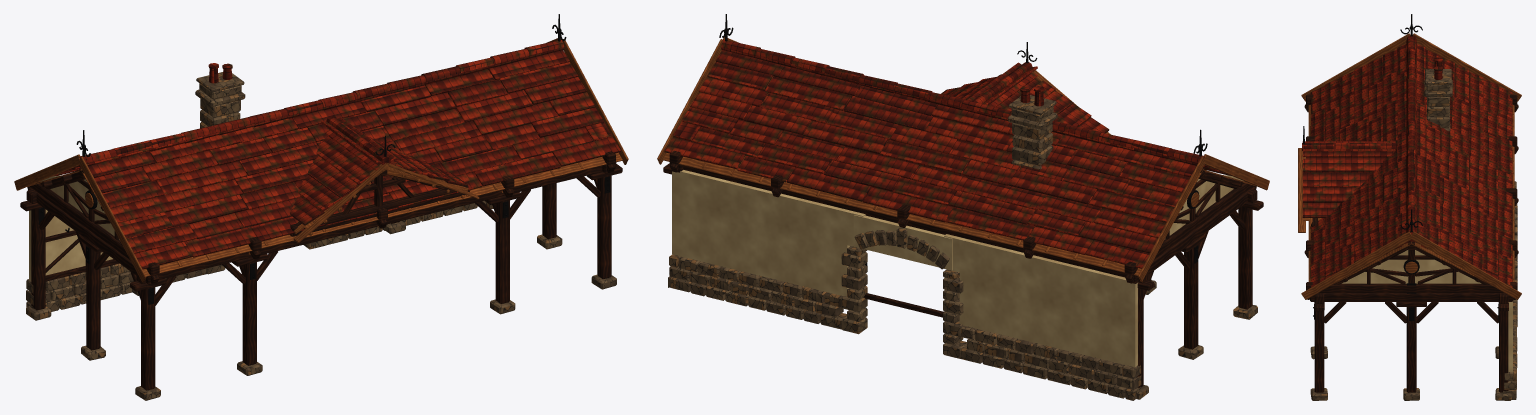
The model's file is forge_shelter.glb.
The picture shows the model from 3 angles, left to right: view 1: azimuth 30°, elevation 25°; view 2: azimuth 150°, elevation 25°; view 3: azimuth 270°, elevation 25°; orthographic projection. The views are drawn at different scales.
Parts seen in each view (by area): view 1: Shell_Roof_Tiles, Shell_Posts, Shell_FrontGable, Shell_Plates_Ties, Shell_Ridge_Finials, Shell_RearWall_Stone, Shell_GableEnds, Shell_RearWall_Frame, Shell_Chimney, Shell_Braces_Joinery, Shell_Trusses, Shell_Ironwork; view 2: Shell_Roof_Tiles, Shell_RearWall_Frame, Shell_RearWall_Stone, Shell_Plates_Ties, Shell_Ridge_Finials, Shell_Posts, Shell_FrontGable, Shell_GableEnds, Shell_Chimney, Shell_Trusses; view 3: Shell_Roof_Tiles, Shell_GableEnds, Shell_FrontGable, Shell_Plates_Ties, Shell_Posts, Shell_Ridge_Finials, Shell_Chimney, Shell_Trusses, Shell_RearWall_Stone, Shell_Braces_Joinery, Shell_RearWall_Frame, Shell_Rafters_Purlins.
Part boxes in pixels (<box>): Shell_Roof_Tiles: <box>28,47,622,276</box>; Shell_Posts: <box>20,164,622,400</box>; Shell_FrontGable: <box>289,116,479,242</box>; Shell_Plates_Ties: <box>26,151,616,284</box>; Shell_Ridge_Finials: <box>76,14,566,167</box>; Shell_RearWall_Stone: <box>26,200,486,311</box>; Shell_GableEnds: <box>14,38,628,282</box>; Shell_RearWall_Frame: <box>29,209,119,281</box>; Shell_Chimney: <box>195,63,245,128</box>; Shell_Braces_Joinery: <box>39,176,600,305</box>; Shell_Trusses: <box>27,163,615,284</box>; Shell_Ironwork: <box>38,176,610,304</box>; Shell_Roof_Tiles: <box>663,47,1255,275</box>; Shell_RearWall_Frame: <box>672,170,1137,367</box>; Shell_RearWall_Stone: <box>668,227,1141,400</box>; Shell_Plates_Ties: <box>669,150,1257,283</box>; Shell_Ridge_Finials: <box>719,14,1207,167</box>; Shell_Posts: <box>663,163,1263,399</box>; Shell_FrontGable: <box>941,42,1110,134</box>; Shell_GableEnds: <box>657,37,1269,281</box>; Shell_Chimney: <box>1007,86,1057,169</box>; Shell_Trusses: <box>670,163,1256,283</box>; Shell_Roof_Tiles: <box>1308,40,1514,287</box>; Shell_GableEnds: <box>1301,33,1521,299</box>; Shell_FrontGable: <box>1298,126,1396,232</box>; Shell_Plates_Ties: <box>1306,94,1517,303</box>; Shell_Posts: <box>1310,302,1511,400</box>; Shell_Ridge_Finials: <box>1400,14,1422,241</box>; Shell_Chimney: <box>1424,57,1452,131</box>; Shell_Trusses: <box>1304,104,1518,299</box>; Shell_RearWall_Stone: <box>1503,181,1517,399</box>; Shell_Braces_Joinery: <box>1324,302,1498,323</box>; Shell_RearWall_Frame: <box>1508,301,1512,371</box>; Shell_Rafters_Purlins: <box>1309,112,1513,282</box>.
Size of the model in its own units: 17.75 by 8.55 by 8.37.
6 materials, 6 textured.
